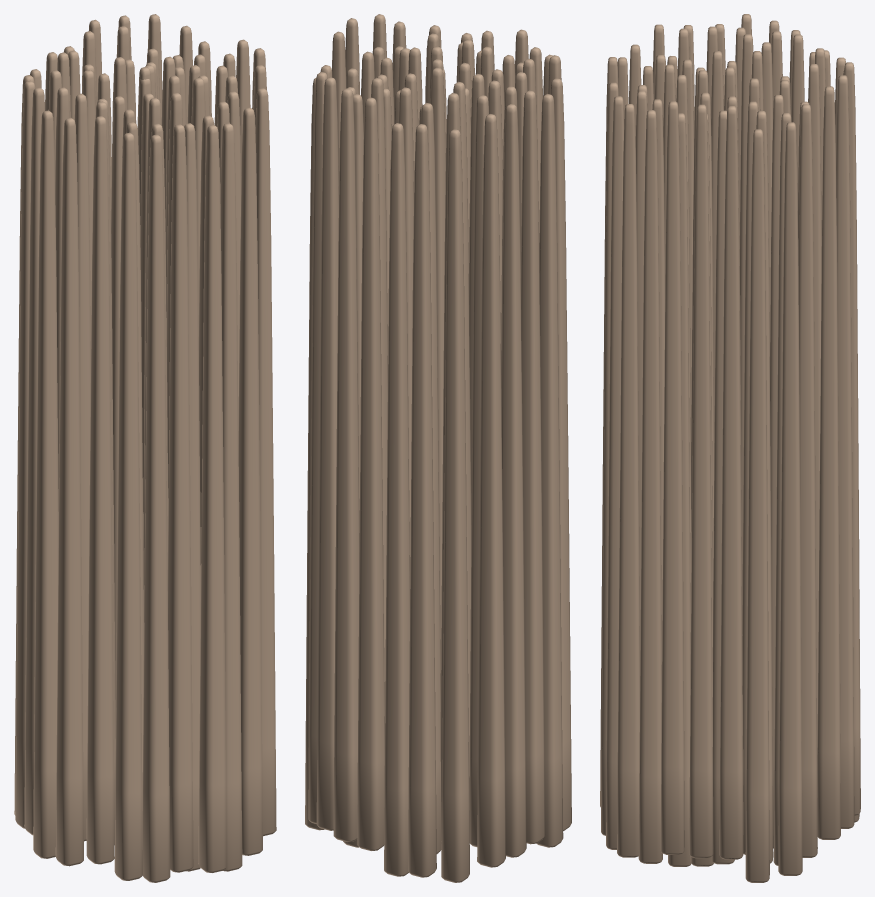
Rendered from CHOPSTICKS_bundle_t3.glb.
3 views of the same model, side by side, from view 1: azimuth 30°, elevation 25°; view 2: azimuth 150°, elevation 25°; view 3: azimuth 270°, elevation 25° (orthographic).
Parts seen in each view (by area): view 1: ChopsticksBundle; view 2: ChopsticksBundle; view 3: ChopsticksBundle.
Boxes of the visible parts, x1=… form: ChopsticksBundle: x1=14, y1=14, x2=276, y2=882; ChopsticksBundle: x1=305, y1=14, x2=571, y2=882; ChopsticksBundle: x1=600, y1=14, x2=860, y2=882.
Size of the model in its own units: 0.0758 by 0.2499 by 0.0757.
